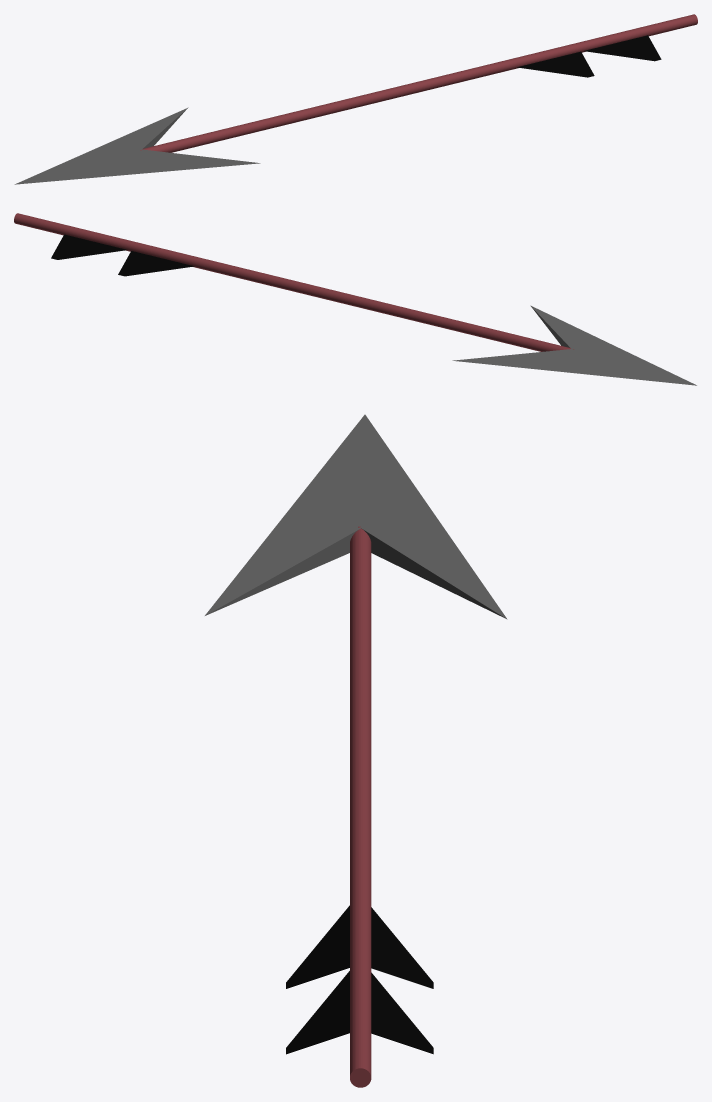
Rendered from flecha.fbx.
The picture shows the model from 3 angles, top to bottom: view 1: azimuth 30°, elevation 25°; view 2: azimuth 150°, elevation 25°; view 3: azimuth 270°, elevation 25°; orthographic projection. The views are drawn at different scales.
Parts seen in each view (by area): view 1: CUERPO, PUNTA, DET 1, DET 2; view 2: CUERPO, PUNTA, DET 2, DET 1; view 3: PUNTA, CUERPO, DET 1, DET 2.
Part boxes in pixels (x1,y1,x2,y2): CUERPO: (140,14,697,152); PUNTA: (14,107,260,184); DET 1: (584,35,661,61); DET 2: (517,51,594,77); CUERPO: (14,213,573,351); PUNTA: (452,305,696,385); DET 2: (118,251,194,276); DET 1: (51,234,126,259); PUNTA: (205,414,507,619); CUERPO: (350,526,371,1087); DET 1: (286,971,433,1054); DET 2: (286,905,433,988).
Size of the model in its own units: 965 by 25.29 by 187.
